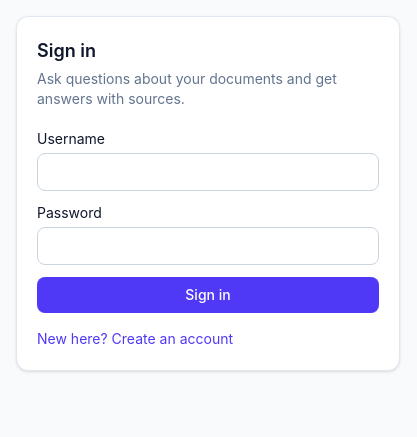
Test case: AuthForm › shows the server error
Type "alice" into the field labelled "Username". click: x=208, y=172
box: [37, 153, 379, 191]
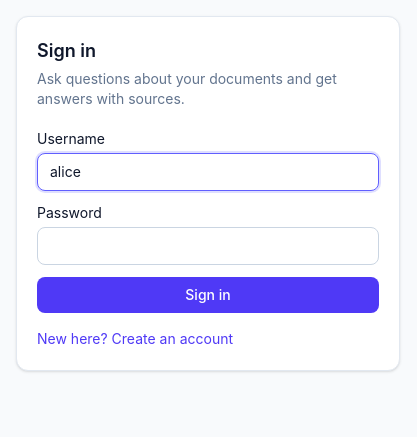
Type "nope" into the password field labelled "Password". click: x=208, y=246
box: [37, 227, 379, 265]
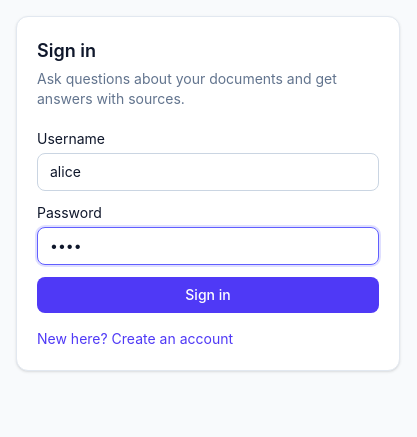
Click the button "Sign in". click: x=208, y=295
box: [37, 277, 379, 313]
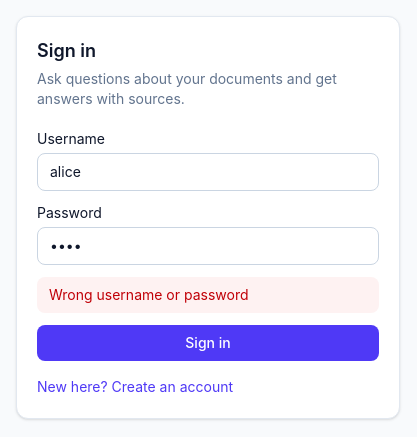
Check: the message reads "Wrong username or password", box [49, 286, 248, 303]
